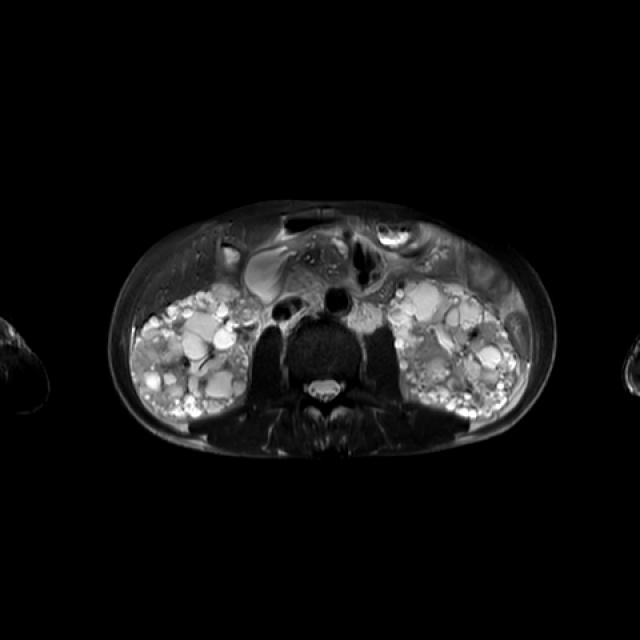sag: (131, 282, 263, 422)
sol: (391, 276, 522, 420)
